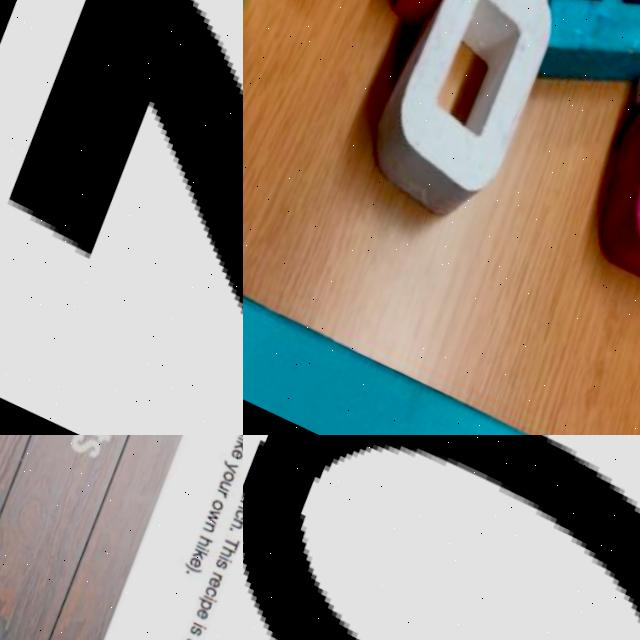2: (0, 0, 243, 435)
A: (173, 633, 189, 640)
C: (225, 503, 241, 518), (194, 581, 210, 595)
E: (184, 601, 203, 619), (221, 442, 239, 459), (179, 551, 196, 567), (198, 571, 214, 586)
H: (222, 513, 240, 528), (211, 541, 229, 556), (188, 531, 206, 546)
I: (210, 551, 225, 560), (194, 591, 209, 600), (183, 618, 197, 627), (188, 541, 202, 550), (187, 541, 202, 549), (231, 435, 243, 440)
K: (226, 435, 243, 449), (184, 545, 201, 558)
N: (193, 516, 209, 530), (229, 493, 243, 507)
O: (243, 435, 640, 640), (563, 72, 640, 327), (214, 465, 230, 480), (203, 494, 219, 508)
P: (186, 592, 204, 607), (232, 473, 243, 490)
Q: (338, 0, 599, 235)
R: (202, 566, 217, 578), (207, 484, 222, 496)
S: (60, 435, 98, 458), (205, 554, 221, 568), (180, 621, 194, 633)
T: (213, 530, 234, 549), (67, 435, 107, 442)
U: (210, 475, 226, 489), (232, 485, 243, 499)
W: (196, 503, 214, 521)
Y: (214, 453, 234, 470)
